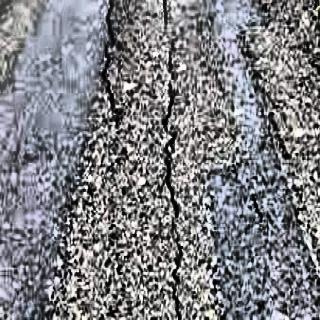crack: (156, 0, 187, 320), (96, 0, 120, 110)
